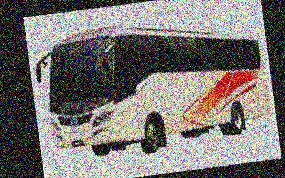bus: (32, 7, 273, 167)
